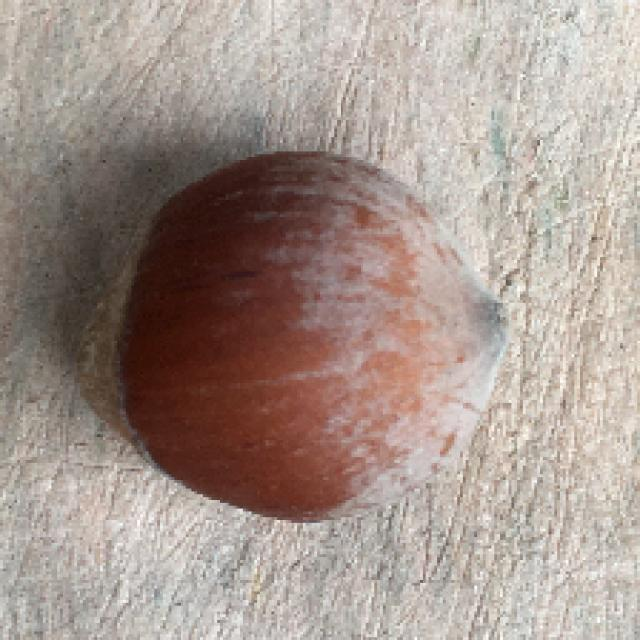qualityHazelnut: (70, 146, 518, 529)
